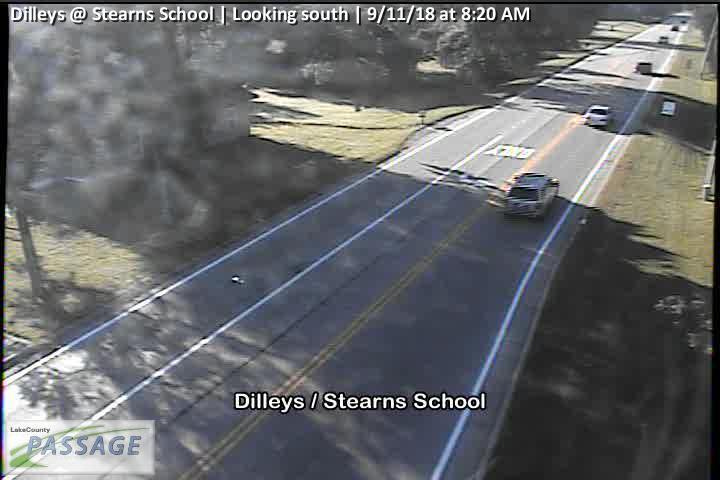SUV: (504, 173, 559, 222), (584, 104, 616, 129)
